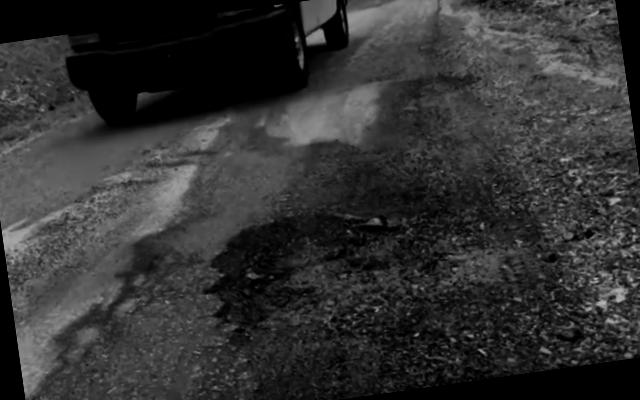Pothole: (186, 170, 556, 380), (254, 56, 478, 180)
